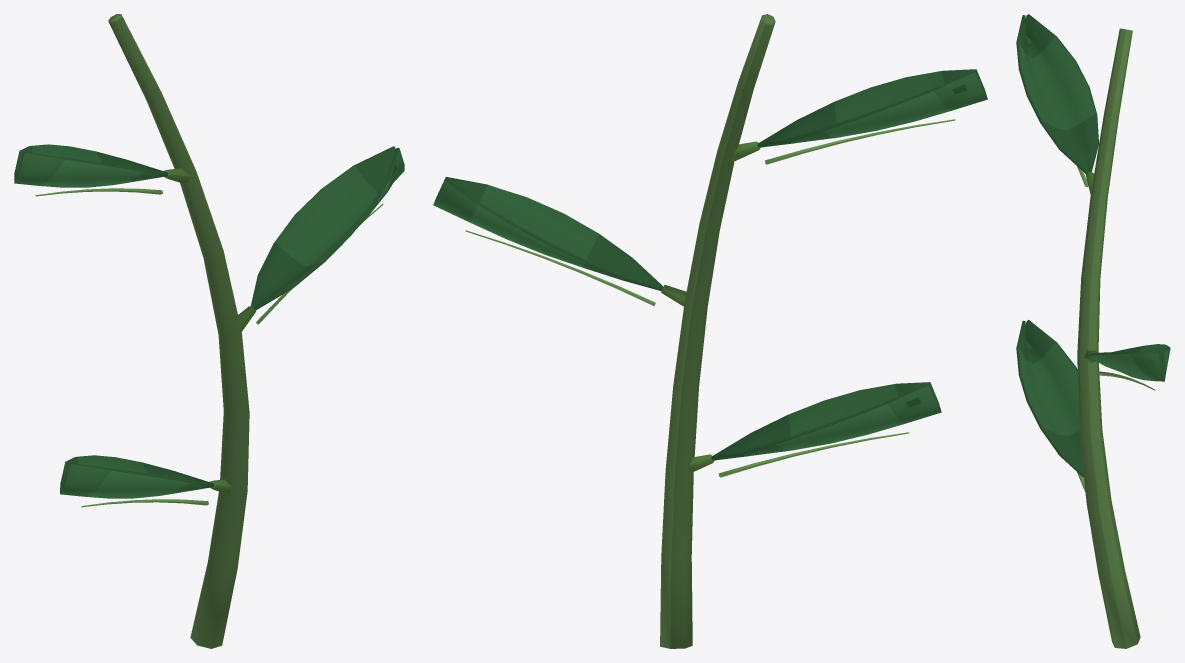
Rendered from garden-zinnia-bloom-stem-0.glb.
The picture shows the model from 3 angles, left to right: view 1: azimuth 30°, elevation 25°; view 2: azimuth 150°, elevation 25°; view 3: azimuth 270°, elevation 25°; orthographic projection. The views are drawn at different scales.
Parts seen in each view (by area): view 1: zinnia-bloom-stem-0; view 2: zinnia-bloom-stem-0; view 3: zinnia-bloom-stem-0.
Part boxes in pixels (x1,y1,x2,y2): zinnia-bloom-stem-0: [14, 14, 404, 648]; zinnia-bloom-stem-0: [433, 14, 987, 648]; zinnia-bloom-stem-0: [1016, 14, 1170, 648].
Size of the model in its own units: 0.2258 by 0.2979 by 0.0722.
